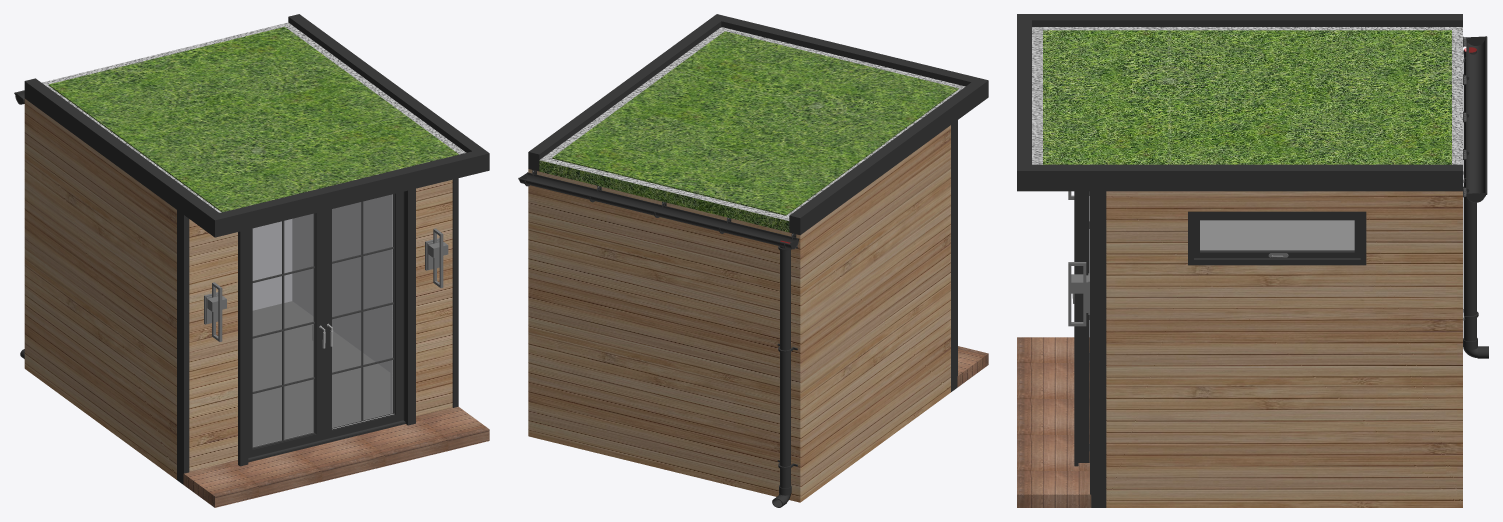
The model's file is GARDEN HOUSE WITH GRASS ROOF & PEBBLES (2.5MX2.5M).glb.
The picture shows the model from 3 angles, left to right: view 1: azimuth 30°, elevation 25°; view 2: azimuth 150°, elevation 25°; view 3: azimuth 270°, elevation 25°; orthographic projection. The views are drawn at different scales.
Visible parts, largest first — view 1: FLAT ROOF (ROOF GARDEN), FRENCH DOOR OPTION 1 (, EXTERIOR WALLS, FLASHING (ROOF & FLOOR), WALL FRONT, INTERIOR WALLS, FLOOR, DECKING, EXTERIOR WALL LAMP (×2); view 2: EXTERIOR WALLS, FLAT ROOF (ROOF GARDEN), FLASHING (ROOF & FLOOR), 5" Half Round Gutter#2, BAJANTE PLUBIAL, DECKING; view 3: EXTERIOR WALLS, FLAT ROOF (ROOF GARDEN), FLASHING (ROOF & FLOOR), DECKING, NA. VE. W. T-OP.2 (40X120CM), INTERIOR WALLS, FRENCH DOOR OPTION 1 (, 5" Half Round Gutter#2, BAJANTE PLUBIAL, EXTERIOR WALL LAMP.
Boxes of the visible parts, x1,y1,x2,y2 form: FLAT ROOF (ROOF GARDEN): [42, 22, 466, 212]; FRENCH DOOR OPTION 1 (: [238, 188, 415, 466]; EXTERIOR WALLS: [24, 98, 176, 479]; FLASHING (ROOF & FLOOR): [24, 14, 489, 484]; WALL FRONT: [189, 179, 452, 471]; INTERIOR WALLS: [252, 194, 392, 412]; FLOOR: [252, 301, 390, 446]; DECKING: [183, 406, 489, 507]; EXTERIOR WALL LAMP (×2): [204, 228, 448, 341]; EXTERIOR WALLS: [528, 125, 950, 502]; FLAT ROOF (ROOF GARDEN): [539, 27, 965, 232]; FLASHING (ROOF & FLOOR): [528, 14, 988, 391]; 5" Half Round Gutter#2: [518, 172, 798, 249]; BAJANTE PLUBIAL: [777, 241, 797, 488]; DECKING: [957, 346, 988, 387]; EXTERIOR WALLS: [1106, 191, 1462, 507]; FLAT ROOF (ROOF GARDEN): [1032, 27, 1462, 164]; FLASHING (ROOF & FLOOR): [1017, 14, 1462, 507]; DECKING: [1017, 337, 1091, 507]; NA. VE. W. T-OP.2 (40X120CM): [1188, 211, 1366, 265]; INTERIOR WALLS: [1200, 220, 1354, 250]; FRENCH DOOR OPTION 1 (: [1074, 191, 1089, 466]; 5" Half Round Gutter#2: [1466, 36, 1487, 202]; BAJANTE PLUBIAL: [1463, 47, 1478, 341]; EXTERIOR WALL LAMP: [1068, 262, 1089, 326].
Bounding box in the file's own units: 2.5 × 2.5 × 3.17.
Materials: 18 (8 with a texture image).
